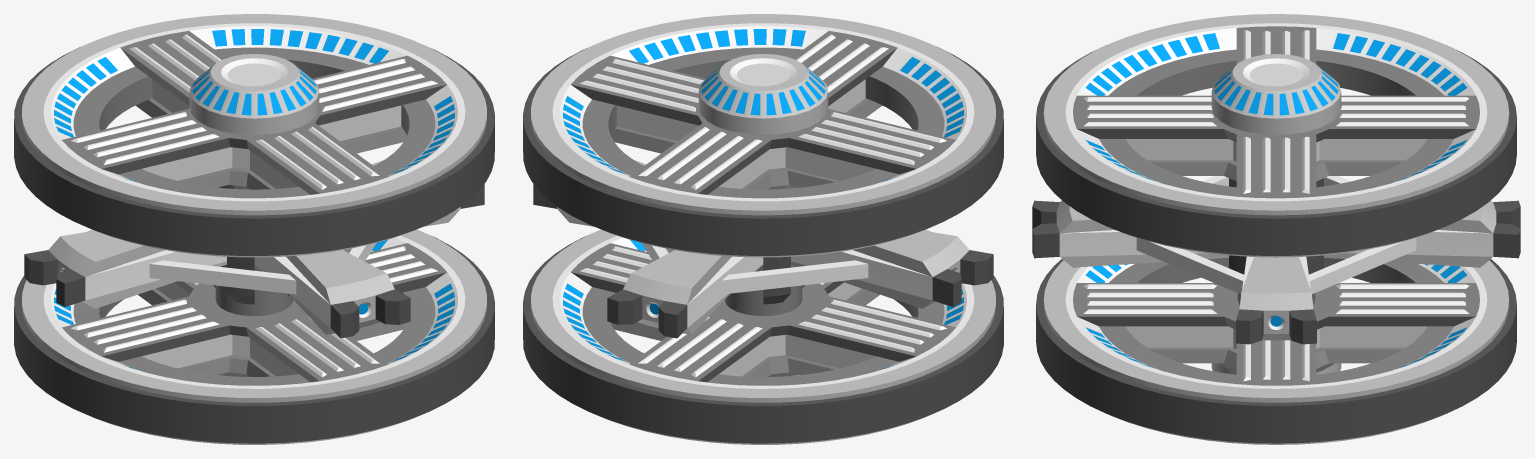
The model's file is station06.fbx.
3 renders of one model, left to right at view 1: azimuth 30°, elevation 25°; view 2: azimuth 150°, elevation 25°; view 3: azimuth 270°, elevation 25°, orthographic.
Visible parts, largest first — view 1: Ring_HD, Base_HD; view 2: Ring_HD, Base_HD; view 3: Ring_HD, Base_HD.
Boxes of the visible parts, x1=… form: Ring_HD: x1=14, y1=14, x2=494, y2=444; Base_HD: x1=24, y1=54, x2=484, y2=376; Ring_HD: x1=523, y1=14, x2=1003, y2=444; Base_HD: x1=533, y1=54, x2=993, y2=376; Ring_HD: x1=1036, y1=14, x2=1516, y2=444; Base_HD: x1=1032, y1=54, x2=1520, y2=374.
Bounding box in the file's own units: 1889 × 1340 × 1889.
